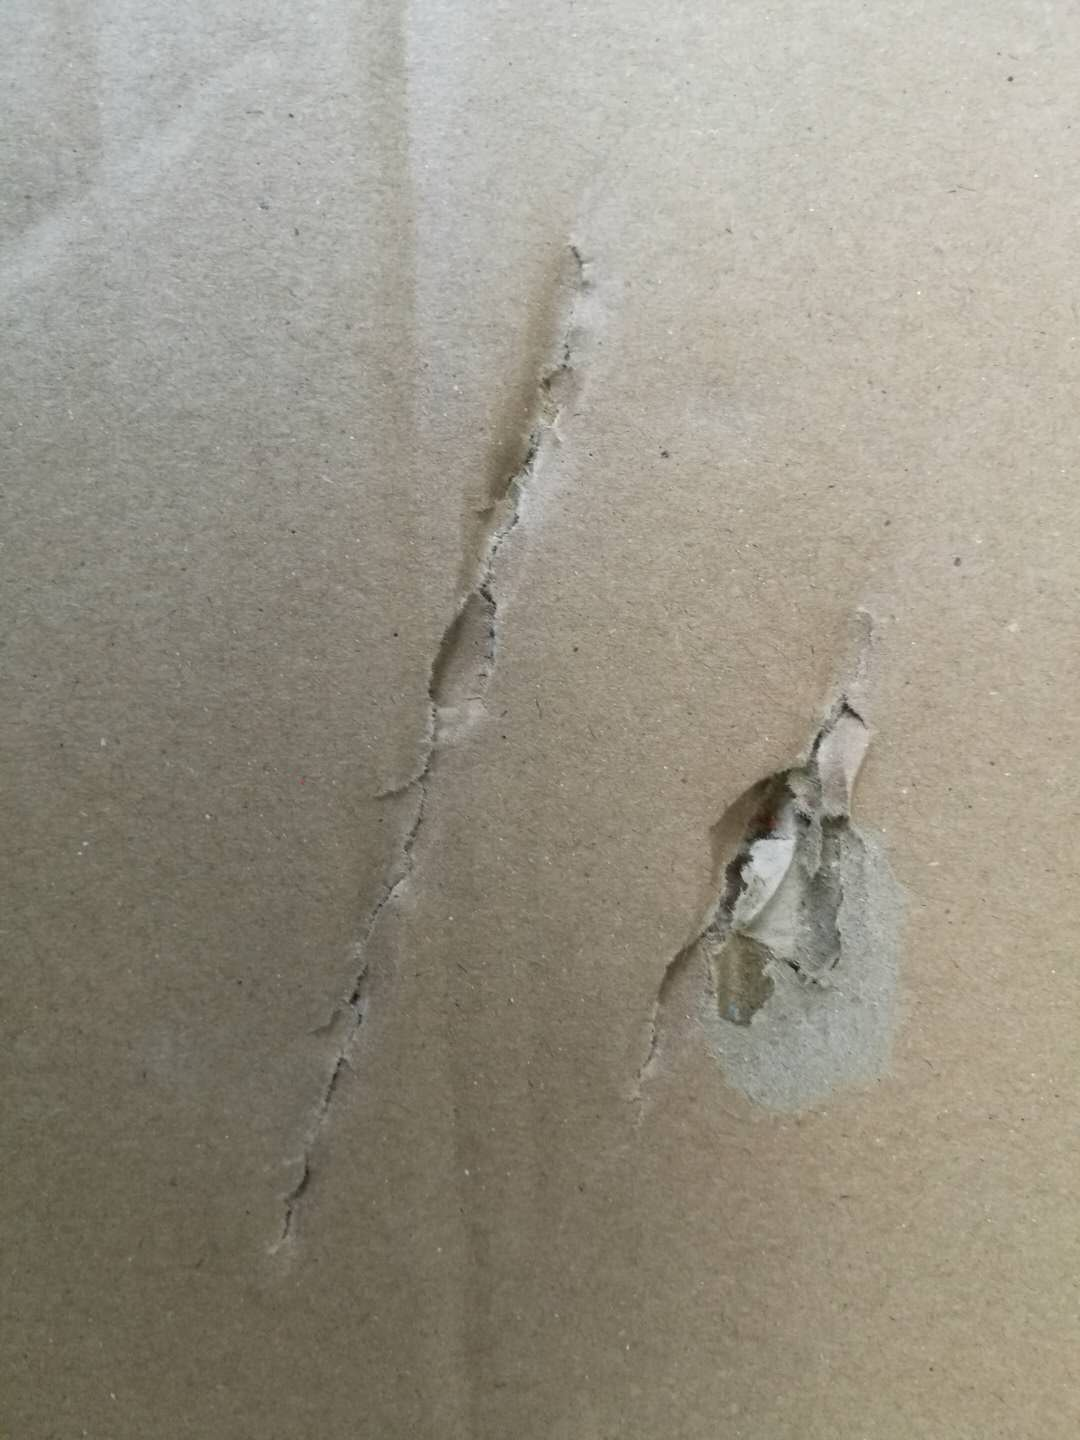defect: (194, 184, 634, 1287), (591, 573, 980, 1136), (334, 5, 491, 595)
